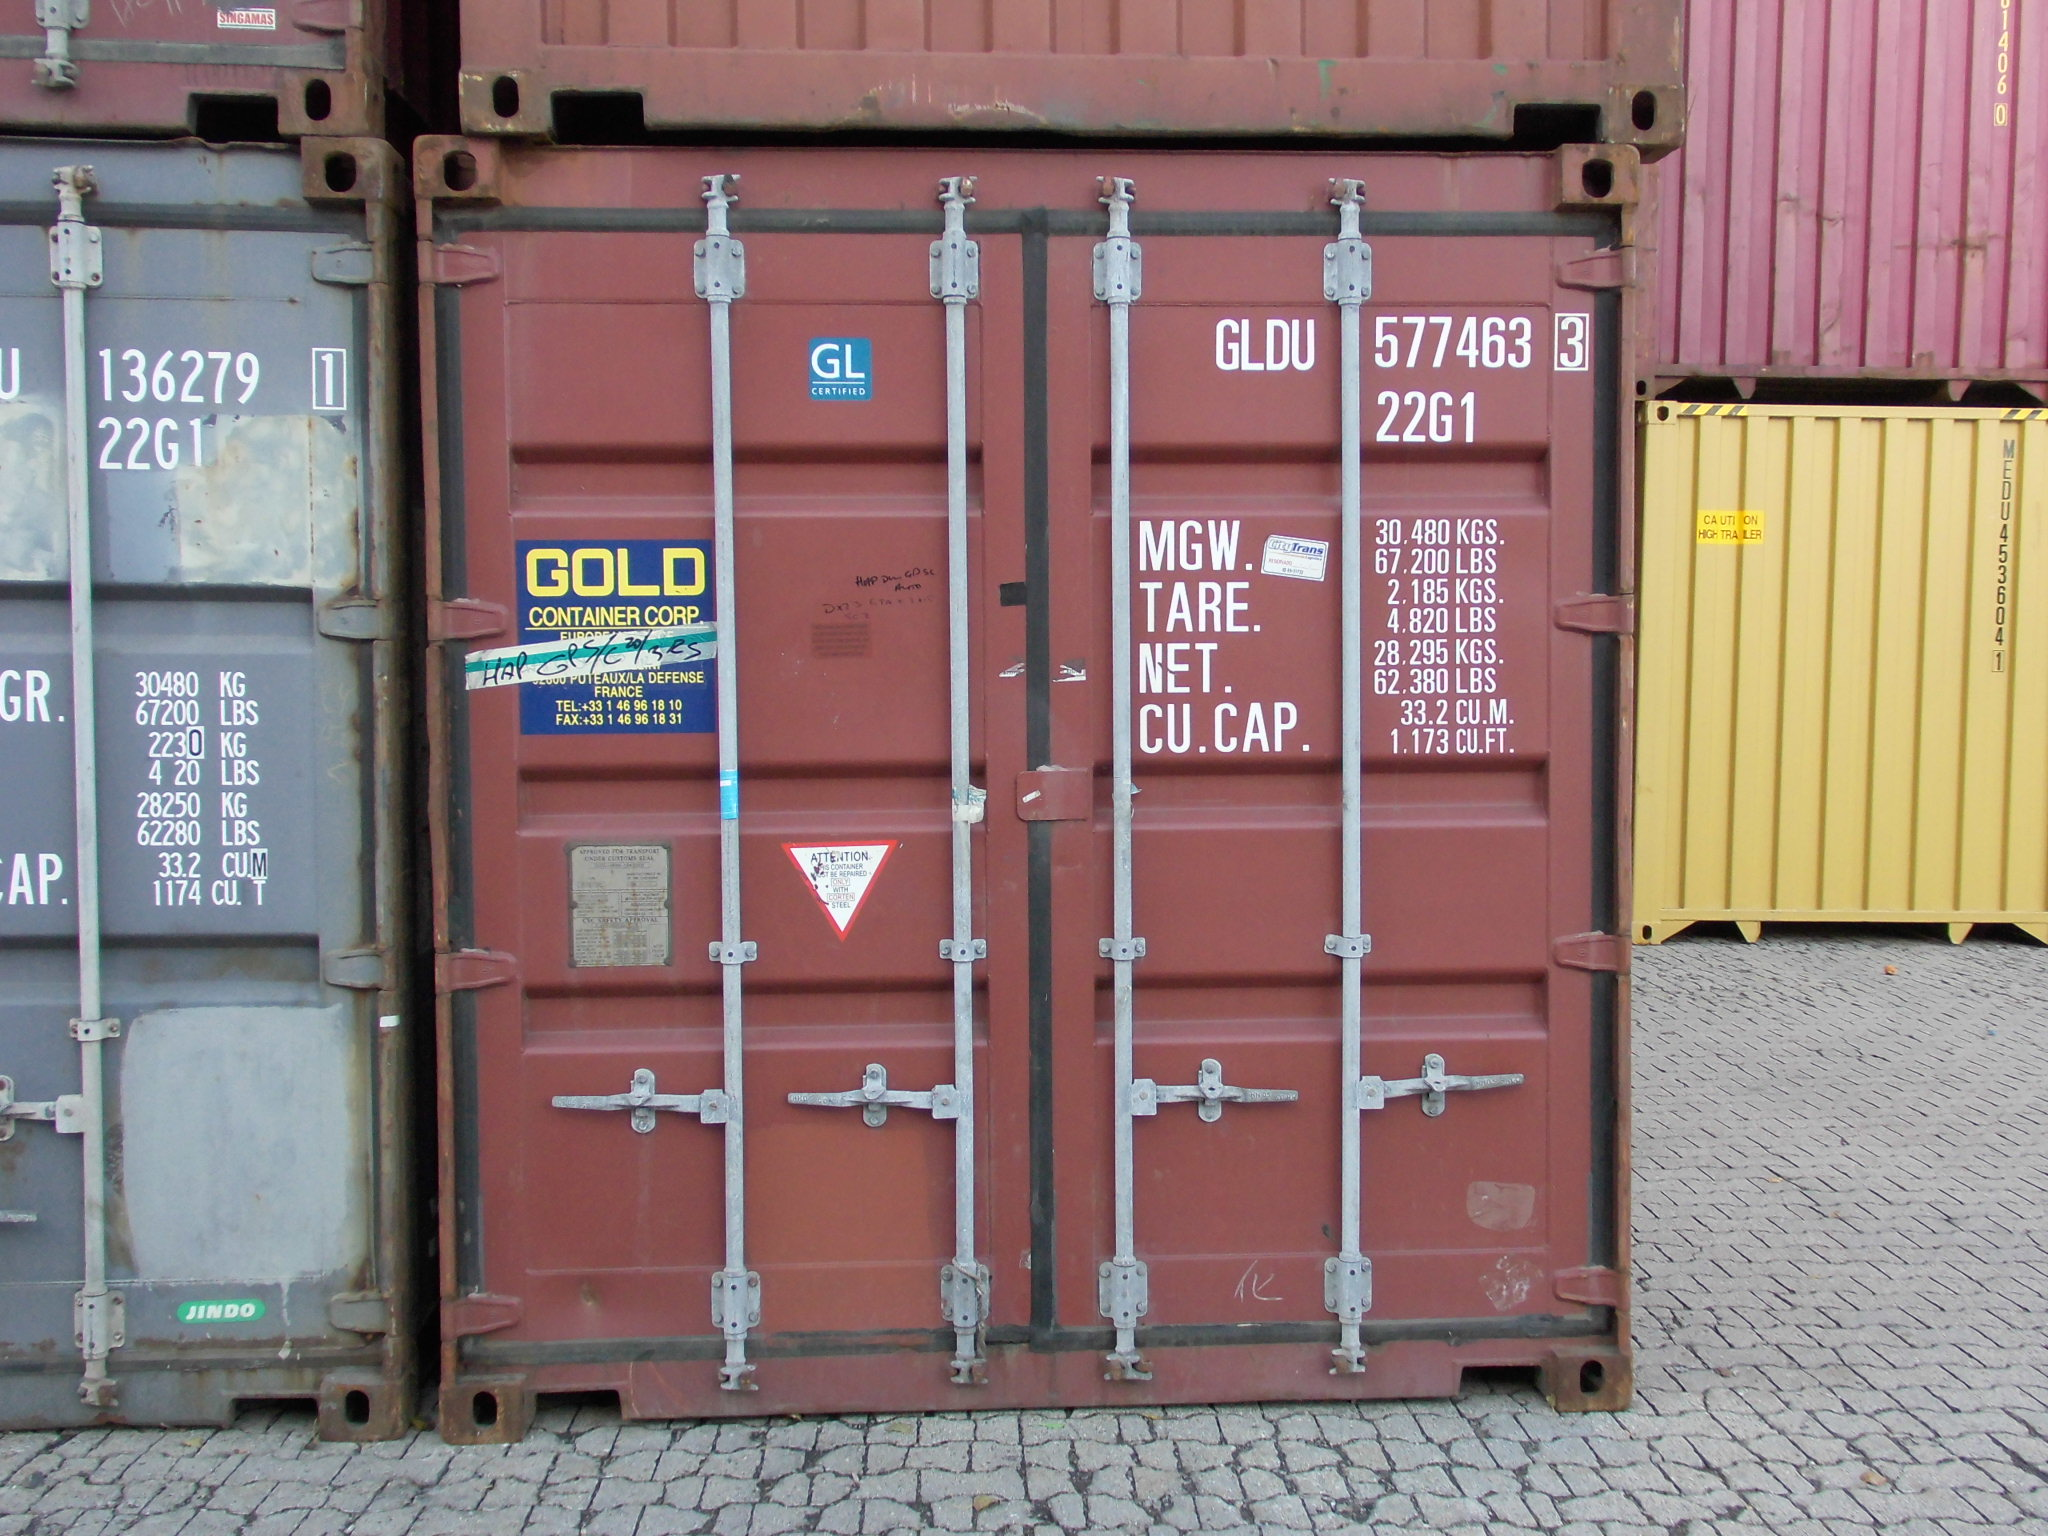container_door: (410, 127, 1646, 1400)
container_no_door: (1664, 405, 2046, 949), (1659, 3, 2048, 402)
